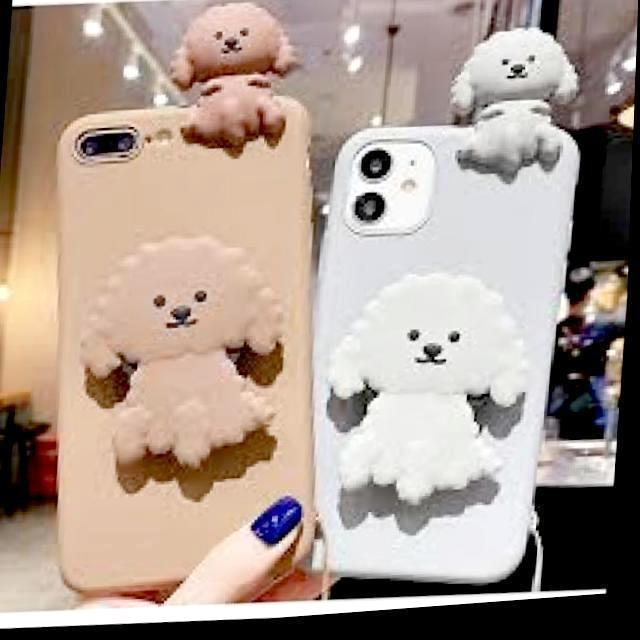lens_back: (340, 184, 387, 223), (361, 142, 392, 185), (79, 133, 106, 166), (114, 126, 135, 164)
phone: (299, 120, 583, 588), (48, 94, 312, 597)
